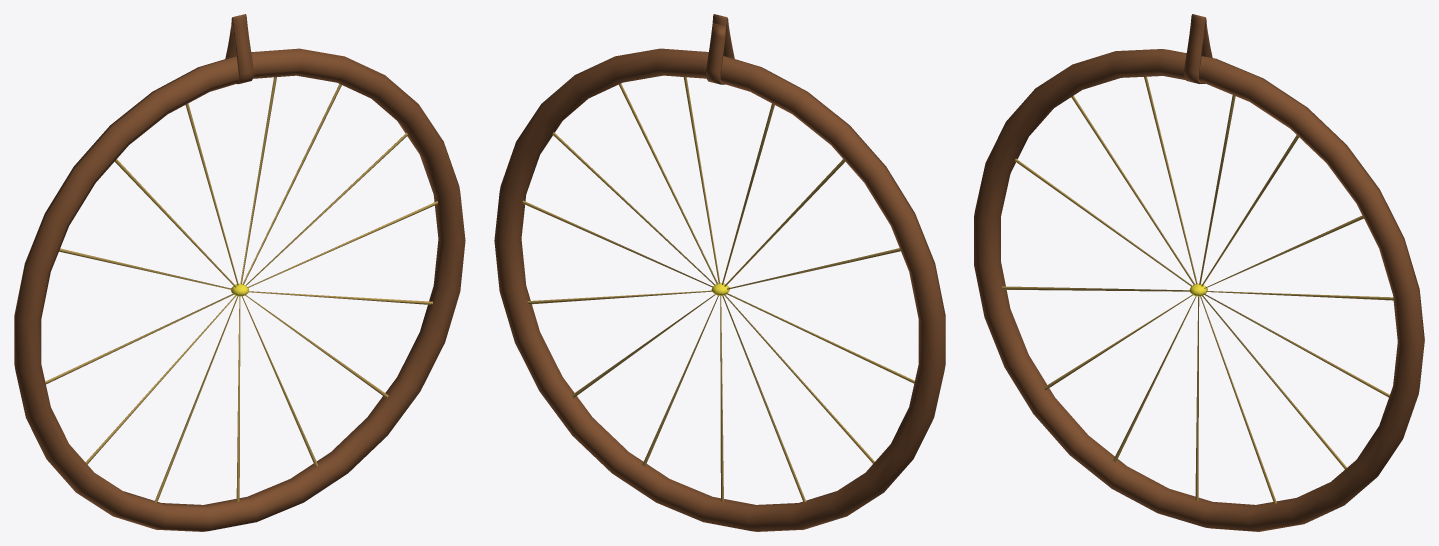
The model's file is dreamcatcher.fbx.
3 renders of one model, left to right at view 1: azimuth 30°, elevation 25°; view 2: azimuth 150°, elevation 25°; view 3: azimuth 330°, elevation 25°, orthographic.
Parts seen in each view (by area): view 1: Torus, Plane, Cube; view 2: Torus, Plane, Cube; view 3: Torus, Plane, Cube.
Boxes of the visible parts, x1,y1,x2,y2 form: Torus: (14,48,465,531); Plane: (45,77,437,502); Cube: (225,14,253,84); Torus: (494,48,945,531); Plane: (522,77,914,502); Cube: (706,14,734,84); Torus: (974,49,1424,531); Plane: (1002,76,1393,503); Cube: (1184,14,1212,83).
Size of the model in its own units: 307 by 333 by 18.75.
